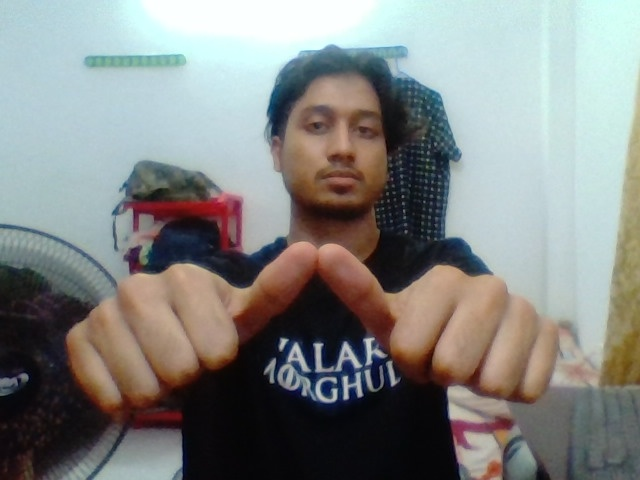A: (54, 221, 582, 443)
